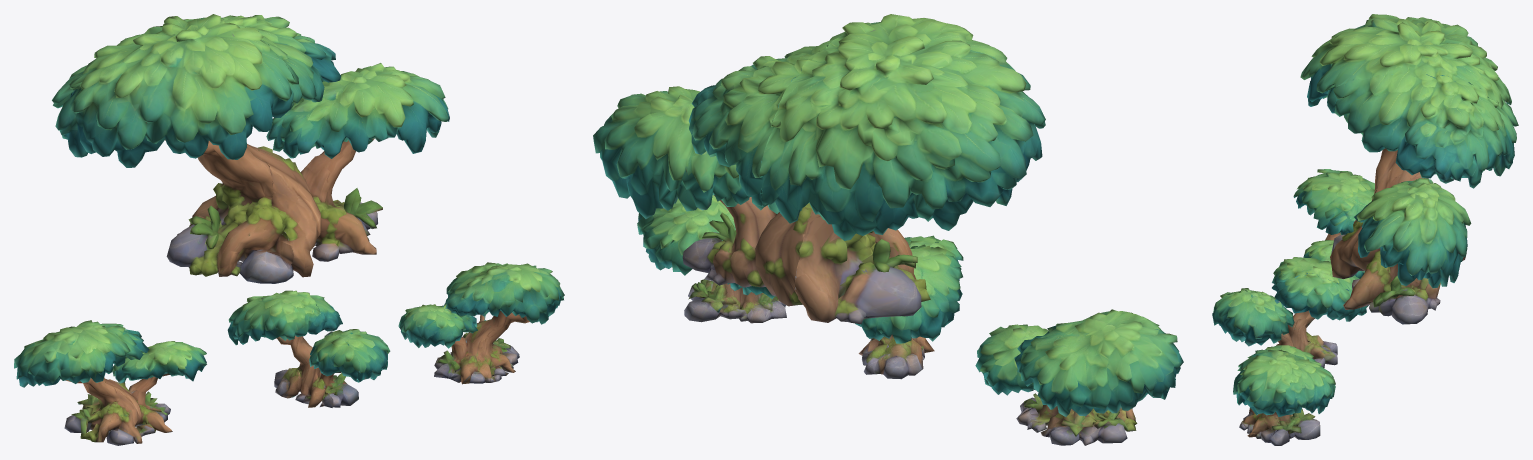
File: canopy_grove.glb
The picture shows the model from 3 angles, left to right: view 1: azimuth 30°, elevation 25°; view 2: azimuth 150°, elevation 25°; view 3: azimuth 270°, elevation 25°; orthographic projection. The views are drawn at different scales.
Visible parts, largest first — view 1: mesh_node; view 2: mesh_node; view 3: mesh_node.
Part boxes in pixels (box(x1,y1,x2,y2)): mesh_node: box(14, 14, 564, 445); mesh_node: box(593, 14, 1183, 445); mesh_node: box(1212, 14, 1518, 445).
Bounding box in the file's own units: 1.9 × 1.23 × 1.12.
Materials: 1 (1 with a texture image).
